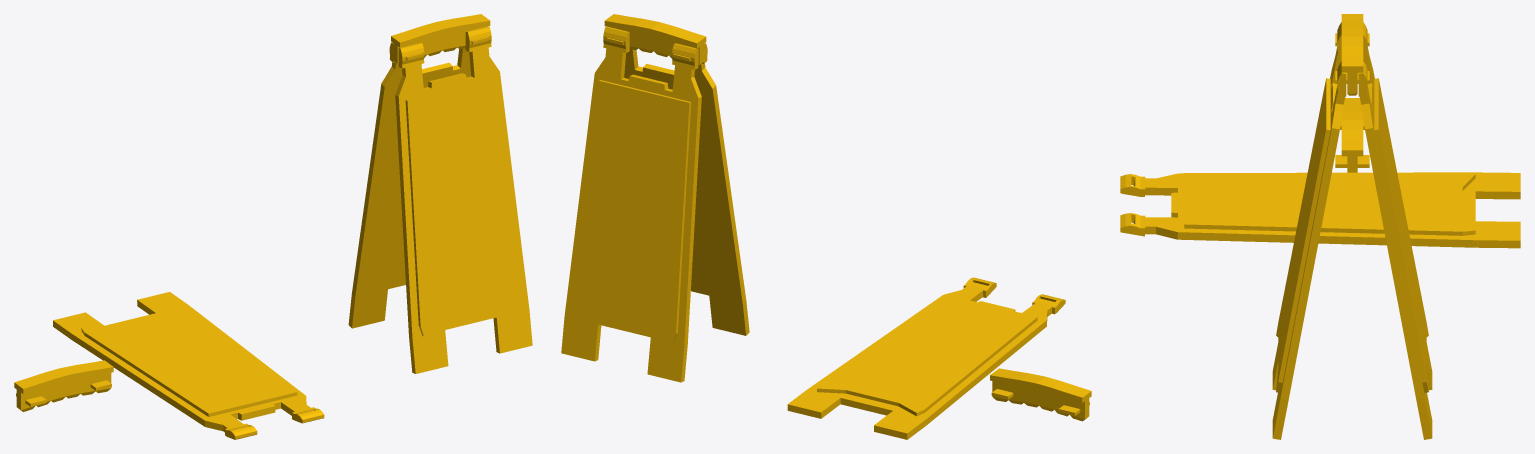
File: sign.fbx
3 views of the same model, side by side, from view 1: azimuth 30°, elevation 25°; view 2: azimuth 150°, elevation 25°; view 3: azimuth 270°, elevation 25° (orthographic). The views are drawn at different scales.
Parts seen in each view (by area): view 1: Plane.013, Plane.008, Plane.010, wetfloorsign.001, wetfloorsign.002; view 2: Plane.010, Plane.008, Plane.013, wetfloorsign.001, wetfloorsign.002; view 3: Plane.008, Plane.013, Plane.010, wetfloorsign.002, wetfloorsign.001.
Boxes of the visible parts, x1,y1,x2,y2 form: Plane.013: (395,26,532,373); Plane.008: (53,292,324,439); Plane.010: (348,42,470,328); wetfloorsign.001: (14,360,113,411); wetfloorsign.002: (391,14,490,64); Plane.010: (561,26,701,382); Plane.008: (787,277,1065,439); Plane.013: (624,42,749,335); wetfloorsign.001: (990,368,1091,421); wetfloorsign.002: (604,14,706,65); Plane.008: (1120,172,1520,248); Plane.013: (1272,22,1346,439); Plane.010: (1358,22,1432,439); wetfloorsign.002: (1335,14,1369,95); wetfloorsign.001: (1335,98,1369,172).
Bounding box in the file's own units: 26.01 × 16.1 × 15.8.
